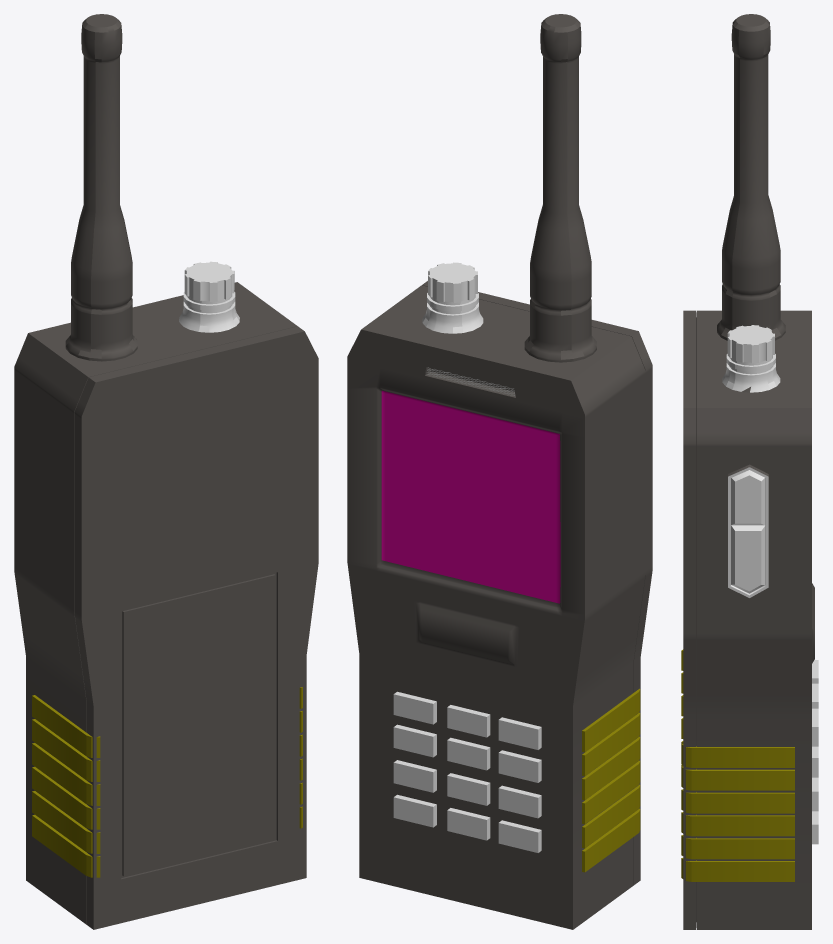
The model's file is hand_held_radio.FBX.
The picture shows the model from 3 angles, left to right: view 1: azimuth 30°, elevation 25°; view 2: azimuth 150°, elevation 25°; view 3: azimuth 270°, elevation 25°; orthographic projection. The views are drawn at different scales.
Parts seen in each view (by area): view 1: radio_low_poly; view 2: radio_low_poly; view 3: radio_low_poly.
Boxes of the visible parts, x1,y1,x2,y2 form: radio_low_poly: (14,14,318,929); radio_low_poly: (347,14,652,929); radio_low_poly: (681,14,818,929).
Bounding box in the file's own units: 32.06 × 110 × 16.34.
